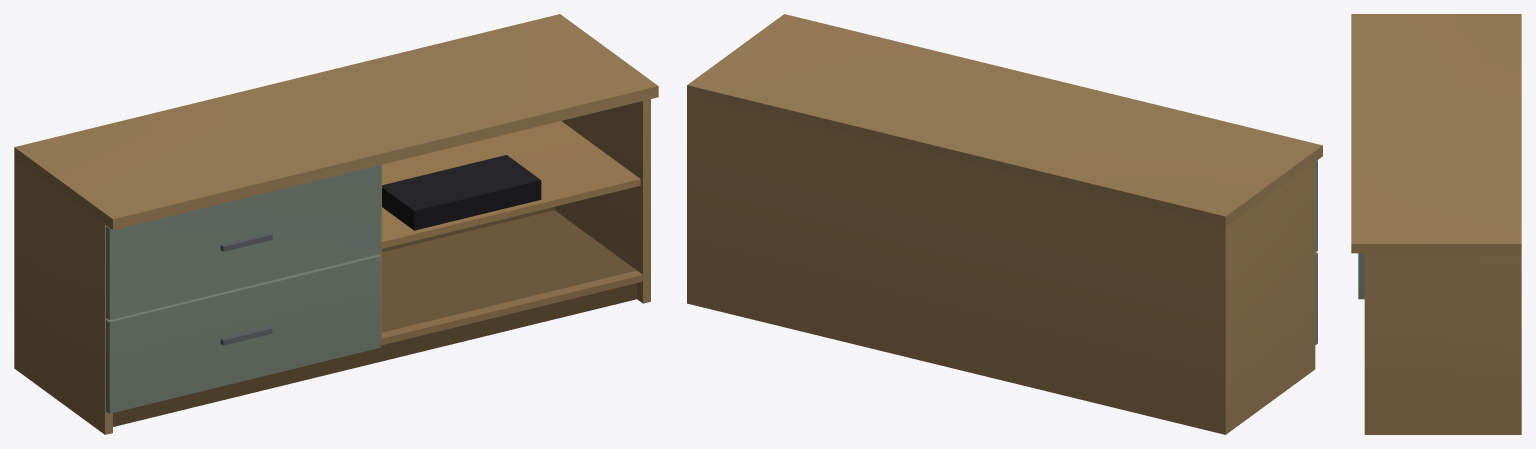
Rendered from cabinet.media.pine.glb.
3 views of the same model, side by side, from view 1: azimuth 30°, elevation 25°; view 2: azimuth 150°, elevation 25°; view 3: azimuth 270°, elevation 25° (orthographic). The views are drawn at different scales.
Parts seen in each view (by area): view 1: cabinet_media_pine; view 2: cabinet_media_pine; view 3: cabinet_media_pine.
Part boxes in pixels (box(x1,y1,x2,y2)): cabinet_media_pine: box(14, 14, 658, 434); cabinet_media_pine: box(687, 14, 1322, 434); cabinet_media_pine: box(1351, 14, 1521, 434).
Size of what is drawn, in the model's own units: 1.55 by 0.6 by 0.484.
